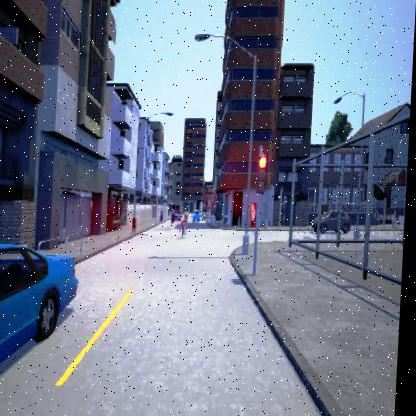bike: (179, 212, 192, 236)
vehicle: (0, 243, 82, 377), (311, 206, 353, 232)
